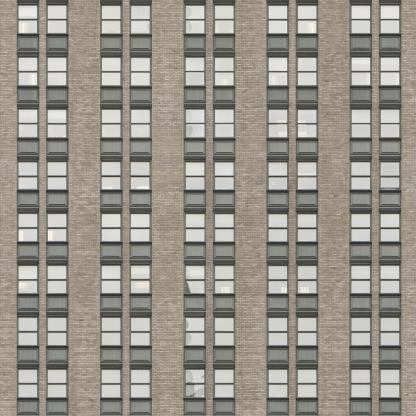Building Outline: (0, 0, 415, 415)
Cornice: (129, 365, 152, 368), (100, 365, 123, 368), (129, 105, 152, 108), (100, 105, 123, 108), (129, 53, 152, 56), (100, 53, 123, 56), (129, 209, 152, 212), (100, 209, 123, 212), (129, 157, 152, 160), (100, 157, 123, 160), (129, 313, 152, 316), (100, 313, 123, 316), (129, 261, 152, 264), (100, 261, 123, 264), (183, 0, 206, 3), (212, 365, 235, 368), (183, 365, 206, 368), (183, 53, 206, 56), (212, 312, 235, 315), (183, 312, 206, 315), (212, 261, 235, 264), (183, 261, 206, 264), (379, 0, 401, 3), (350, 0, 372, 3), (379, 364, 401, 367), (350, 364, 372, 367), (379, 104, 401, 107), (350, 104, 372, 107), (379, 52, 401, 55), (350, 52, 372, 55), (379, 208, 401, 211), (350, 208, 372, 211), (379, 156, 401, 159), (350, 156, 372, 159), (379, 312, 401, 315), (350, 312, 372, 315), (379, 260, 401, 263), (350, 260, 372, 263), (46, 0, 68, 3), (17, 0, 39, 3), (46, 364, 68, 367), (17, 364, 39, 367), (46, 104, 68, 107), (17, 104, 39, 107), (46, 52, 68, 55), (17, 52, 39, 55), (46, 208, 68, 211), (17, 208, 39, 211), (46, 156, 68, 159), (17, 156, 39, 159), (46, 312, 68, 315), (17, 312, 39, 315), (46, 260, 68, 263), (17, 260, 39, 263), (213, 0, 235, 3), (213, 105, 235, 108), (184, 104, 206, 107), (213, 53, 235, 56), (213, 209, 235, 212), (184, 209, 206, 212), (213, 157, 235, 160), (184, 157, 206, 160), (296, 0, 318, 3), (267, 0, 289, 3), (296, 364, 318, 367), (267, 364, 289, 367), (296, 104, 318, 107), (267, 104, 289, 107), (296, 52, 318, 55), (267, 52, 289, 55), (296, 208, 318, 211), (267, 208, 289, 211), (296, 156, 318, 159), (267, 156, 289, 159), (296, 312, 318, 315), (267, 312, 289, 315), (296, 260, 318, 263), (267, 260, 289, 263), (129, 1, 152, 3), (100, 1, 123, 3)
Facade: (0, 0, 415, 415)
Floor: (0, 259, 416, 309), (0, 312, 416, 361), (0, 52, 416, 101), (0, 0, 416, 48), (0, 364, 416, 412), (0, 208, 416, 256), (0, 156, 416, 204), (0, 104, 416, 152)
Floor Slab: (0, 48, 416, 52), (0, 204, 416, 208), (0, 152, 416, 156), (0, 100, 416, 104), (0, 412, 416, 416), (0, 361, 416, 364), (0, 309, 416, 312), (0, 256, 416, 259)
Window: (380, 368, 400, 397), (351, 368, 371, 397), (380, 4, 400, 33), (351, 4, 371, 33), (380, 56, 400, 85), (351, 56, 371, 85), (380, 108, 400, 137), (351, 108, 371, 137), (380, 161, 400, 190), (351, 161, 371, 190), (380, 212, 400, 241), (351, 212, 371, 241), (380, 264, 400, 293), (351, 264, 371, 293), (380, 316, 400, 345), (351, 316, 371, 345), (47, 368, 67, 397), (18, 368, 38, 397), (47, 4, 67, 33), (18, 4, 38, 33), (47, 56, 67, 85), (18, 56, 38, 85), (47, 108, 67, 137), (18, 108, 38, 137), (47, 161, 67, 190), (18, 161, 38, 190), (47, 212, 67, 241), (18, 212, 38, 241), (47, 264, 67, 293), (18, 264, 38, 293), (47, 316, 67, 345), (18, 316, 38, 345), (131, 369, 151, 398), (101, 369, 121, 398), (131, 5, 151, 34), (101, 5, 121, 34), (131, 57, 151, 86), (101, 57, 121, 86), (131, 109, 151, 138), (101, 109, 121, 138), (131, 161, 151, 190), (101, 161, 121, 190), (131, 213, 151, 242), (101, 213, 121, 242), (131, 265, 151, 294), (101, 265, 121, 294), (131, 317, 151, 346), (101, 317, 121, 346), (215, 369, 235, 398), (185, 369, 205, 398), (214, 5, 234, 34), (185, 5, 205, 34), (215, 57, 235, 86), (185, 57, 205, 86), (215, 109, 235, 138), (185, 109, 205, 138), (215, 161, 235, 190), (185, 161, 205, 190), (215, 213, 235, 242), (185, 213, 205, 242), (215, 265, 235, 294), (185, 265, 205, 294), (215, 317, 235, 346), (185, 317, 205, 346), (297, 368, 317, 397), (268, 368, 288, 397), (297, 4, 317, 33), (268, 4, 288, 33), (297, 56, 317, 85), (268, 56, 288, 85), (297, 108, 317, 137), (268, 108, 288, 137), (297, 161, 317, 190), (268, 161, 288, 190), (297, 212, 317, 241), (268, 212, 288, 241), (297, 264, 317, 293), (268, 264, 288, 293), (297, 316, 317, 345), (268, 316, 288, 345)
